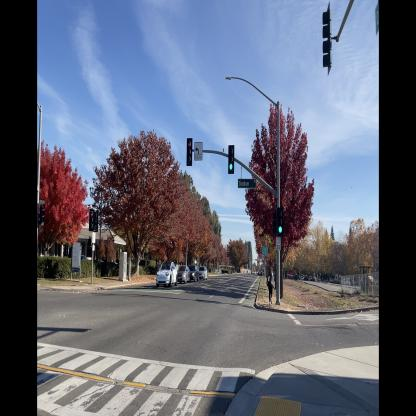green: (276, 206, 284, 239), (228, 143, 235, 176)
left-red: (186, 136, 193, 169), (89, 207, 95, 234)
